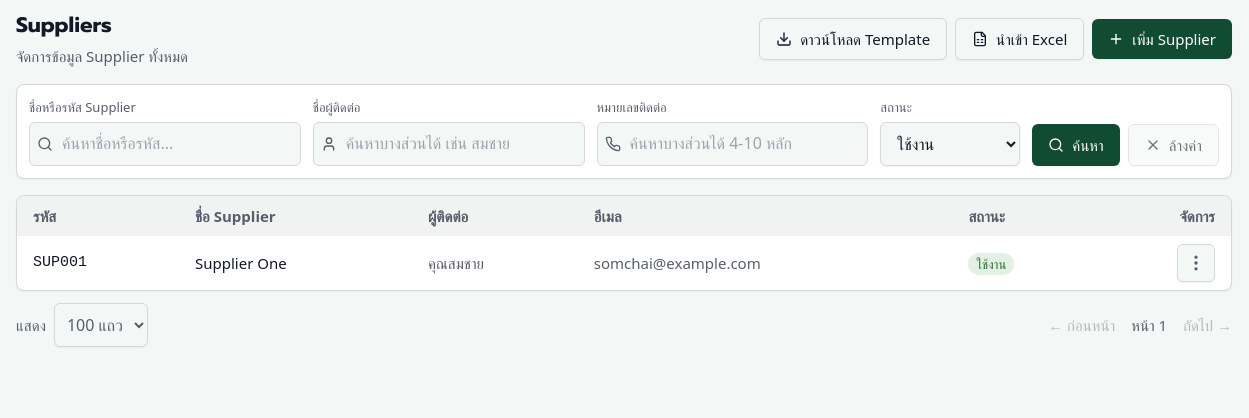
Test: Suppliers — Excel import entry points (round 8-20B) › shows a Thai message when the template download fails
Check: the text "SUP001" is shown, box 17,236 -> 179,290
Click the button "ดาวน์โหลด Template" at {"x": 853, "y": 39}, box 759,18 -> 947,60
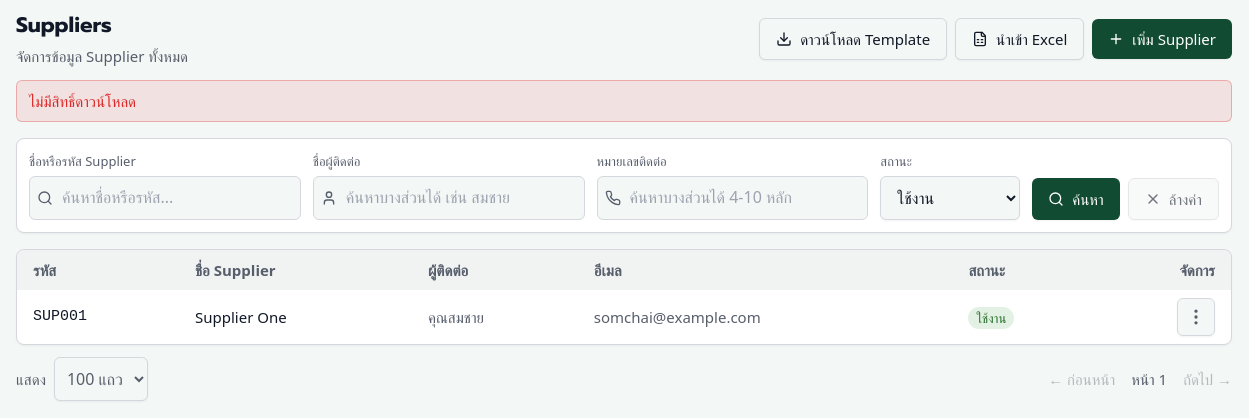
Check: the text "ไม่มีสิทธิ์ดาวน์โหลด" is shown, box 29,89 -> 136,113
